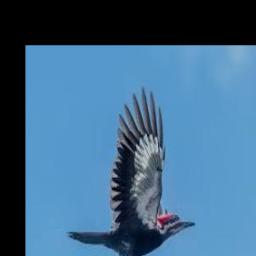Woodpecker: (66, 86, 196, 256)
